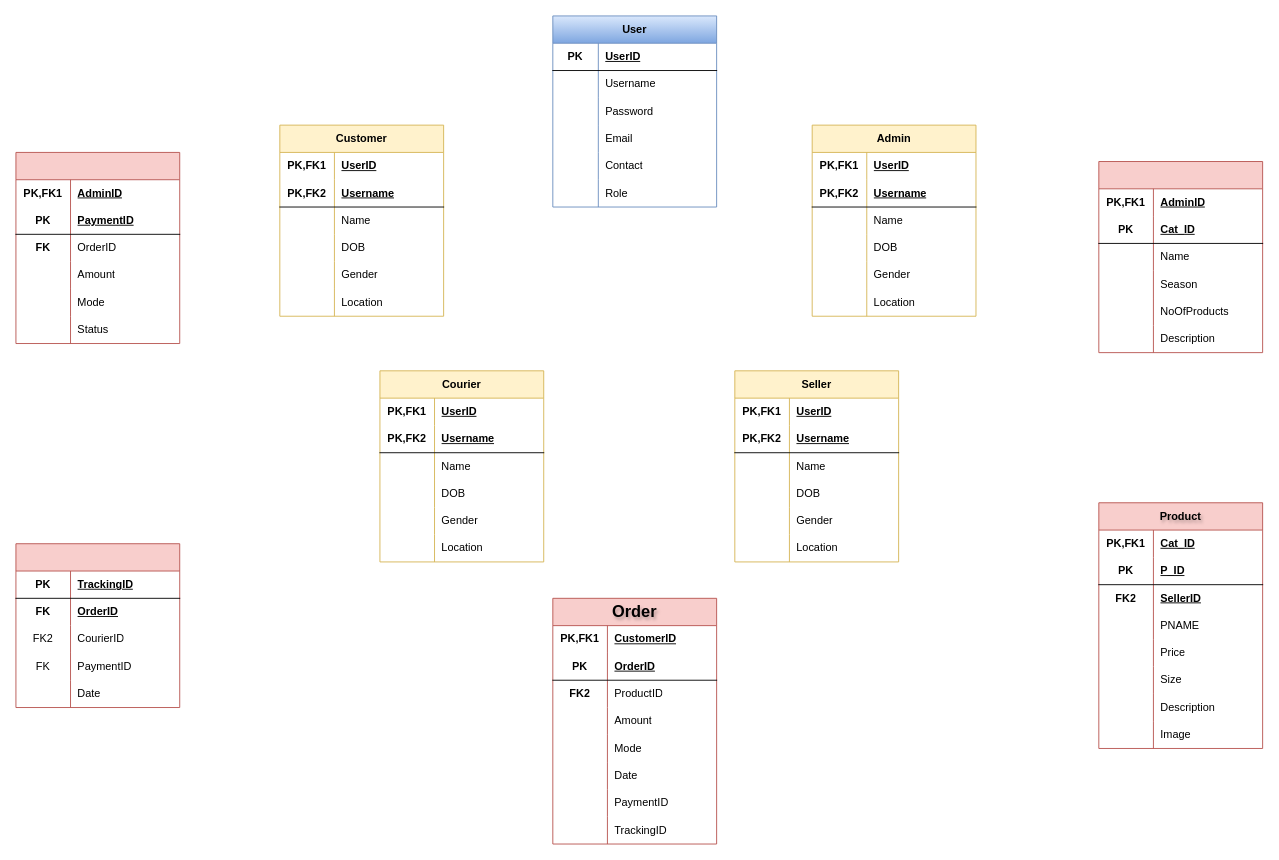
Image size: 1279x860. Some labels were removed from this diagram. The box of each missing label's shape, as (x1, y1, x2, y2) in pixels:
Category: (1098, 161, 1263, 353)
Payments: (15, 152, 180, 344)
Tracking_Details: (15, 543, 180, 708)
